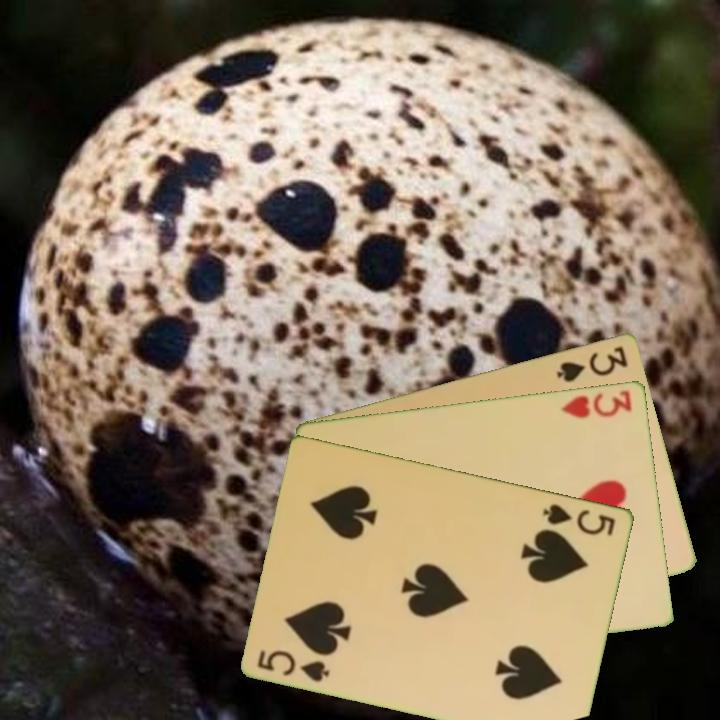3h: (557, 386, 635, 421)
3s: (553, 342, 631, 385)
5s: (254, 646, 333, 685), (539, 500, 619, 538)
